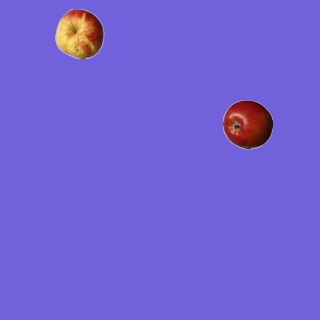Apple Braeburn: (222, 99, 272, 149)
Apple Red Yellow 1: (54, 8, 104, 58)
